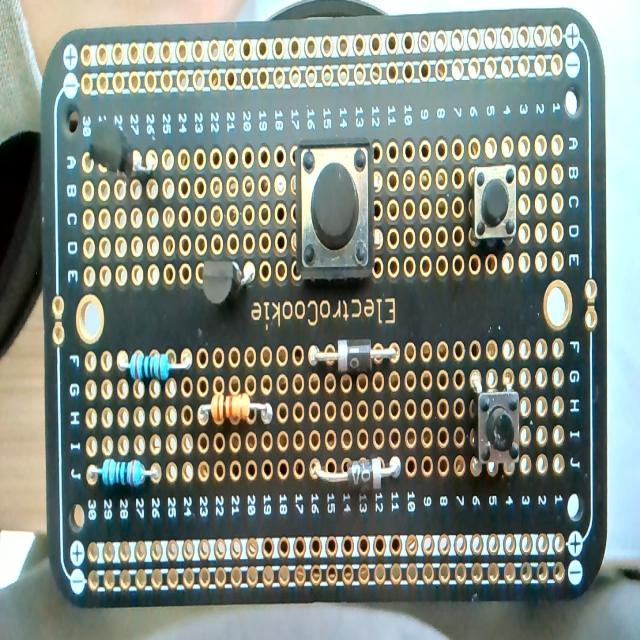diode: (303, 330, 413, 376), (308, 455, 404, 488)
resistor: (112, 342, 200, 388), (88, 454, 158, 494), (194, 395, 276, 429)
switch: (296, 145, 376, 276), (471, 374, 523, 471), (470, 166, 520, 249)
transistor: (188, 245, 260, 311)
